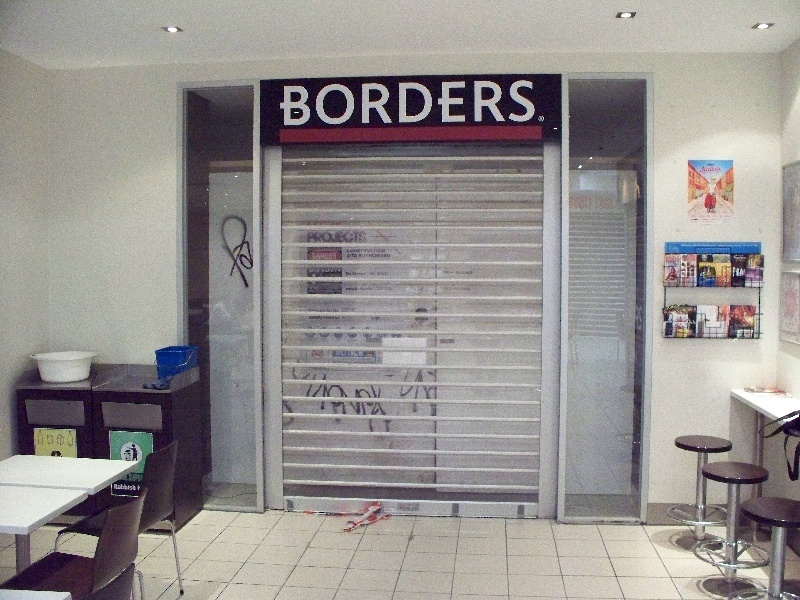text: (289, 79, 304, 128), (305, 79, 320, 128), (321, 79, 336, 128), (337, 79, 352, 128), (353, 79, 368, 128), (369, 79, 384, 128), (385, 79, 400, 128), (401, 79, 416, 128), (417, 79, 432, 128), (433, 79, 448, 128), (449, 79, 464, 128), (465, 79, 480, 128), (481, 79, 496, 128), (497, 79, 512, 128), (513, 79, 528, 128), (280, 79, 288, 128), (529, 79, 536, 128), (577, 197, 592, 211), (594, 197, 608, 211), (321, 232, 336, 243), (337, 232, 352, 243), (353, 232, 367, 243), (129, 474, 144, 483), (308, 232, 320, 243), (321, 253, 337, 260), (705, 166, 720, 173), (737, 267, 746, 278), (114, 484, 128, 491), (569, 197, 576, 211), (337, 351, 352, 357), (609, 197, 615, 211), (321, 269, 336, 274), (353, 351, 364, 357), (371, 316, 384, 321), (337, 361, 352, 365), (353, 361, 368, 365), (353, 272, 368, 276), (369, 254, 384, 258), (353, 249, 368, 253), (369, 249, 384, 253), (689, 244, 704, 248), (705, 244, 720, 248), (721, 244, 736, 248), (737, 244, 752, 248), (369, 272, 384, 276), (449, 271, 464, 275), (321, 309, 336, 313), (321, 316, 335, 320), (312, 253, 320, 260), (309, 269, 320, 274), (342, 308, 352, 313), (129, 484, 136, 491), (308, 316, 320, 320), (353, 358, 368, 361), (353, 288, 368, 291), (321, 290, 336, 293), (309, 309, 320, 313), (138, 485, 144, 492), (338, 358, 352, 361), (358, 254, 368, 258), (737, 256, 747, 260), (122, 476, 128, 482), (308, 290, 320, 293), (733, 267, 736, 278), (465, 271, 473, 275), (376, 287, 384, 291), (385, 287, 393, 291), (454, 288, 464, 291), (369, 361, 376, 365), (681, 244, 688, 248), (705, 273, 712, 277), (377, 272, 384, 276), (337, 269, 342, 274), (346, 272, 352, 276), (385, 254, 391, 258), (753, 244, 759, 248), (737, 325, 749, 327), (701, 166, 704, 173), (465, 288, 472, 291), (353, 308, 357, 313), (347, 254, 352, 258), (353, 254, 358, 258), (347, 249, 352, 253), (385, 272, 390, 276), (346, 288, 352, 291), (332, 361, 336, 365), (700, 273, 704, 277), (540, 117, 544, 121), (444, 271, 448, 275), (444, 287, 448, 291), (369, 288, 374, 291), (337, 290, 342, 293), (449, 287, 452, 291), (369, 358, 372, 361), (385, 249, 387, 253), (734, 256, 736, 260), (337, 309, 339, 313), (721, 166, 722, 173), (735, 325, 736, 327)
